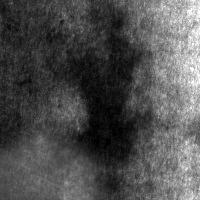patches: (61, 6, 140, 162), (0, 130, 110, 200)
